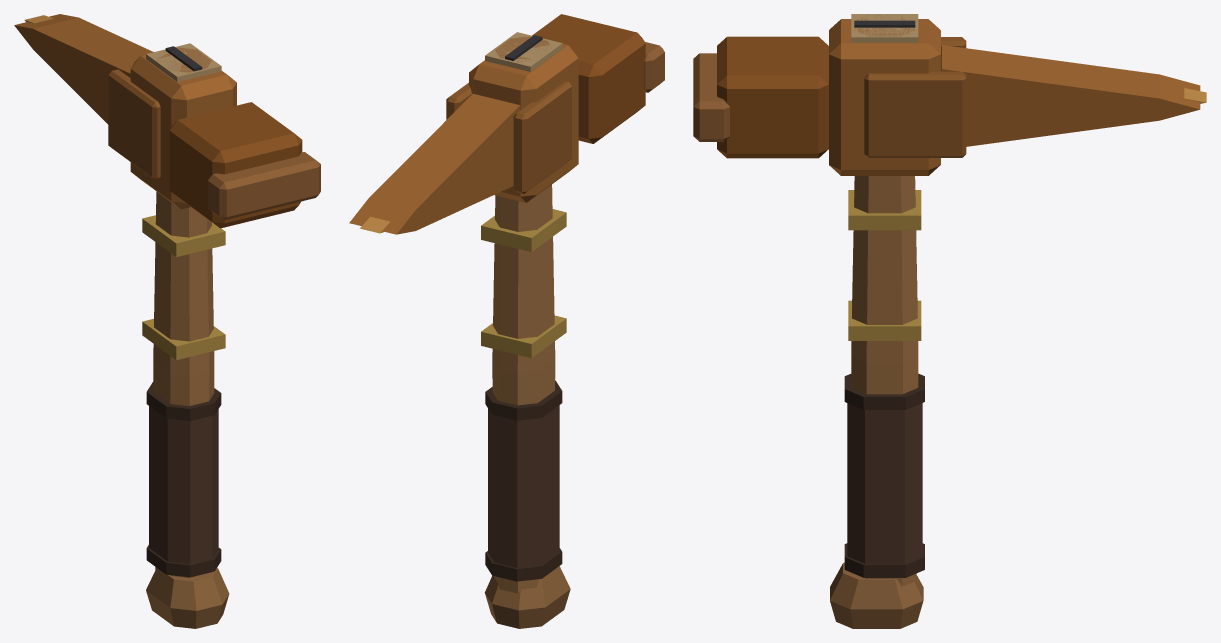
File: CopperPick.glb
3 renders of one model, left to right at view 1: azimuth 30°, elevation 25°; view 2: azimuth 150°, elevation 25°; view 3: azimuth 270°, elevation 25°, orthographic. The views are drawn at different scales.
Visible parts, largest first — view 1: Head, Handle; view 2: Head, Handle; view 3: Head, Handle.
Part boxes in pixels (bbox=[...]): Head: bbox=[14, 14, 320, 228]; Handle: bbox=[142, 43, 229, 628]; Head: bbox=[349, 14, 664, 234]; Handle: bbox=[481, 32, 570, 628]; Head: bbox=[693, 19, 1206, 175]; Handle: bbox=[830, 14, 924, 628].
Bounding box in the file's own units: 0.62 × 3.21 × 2.52.
